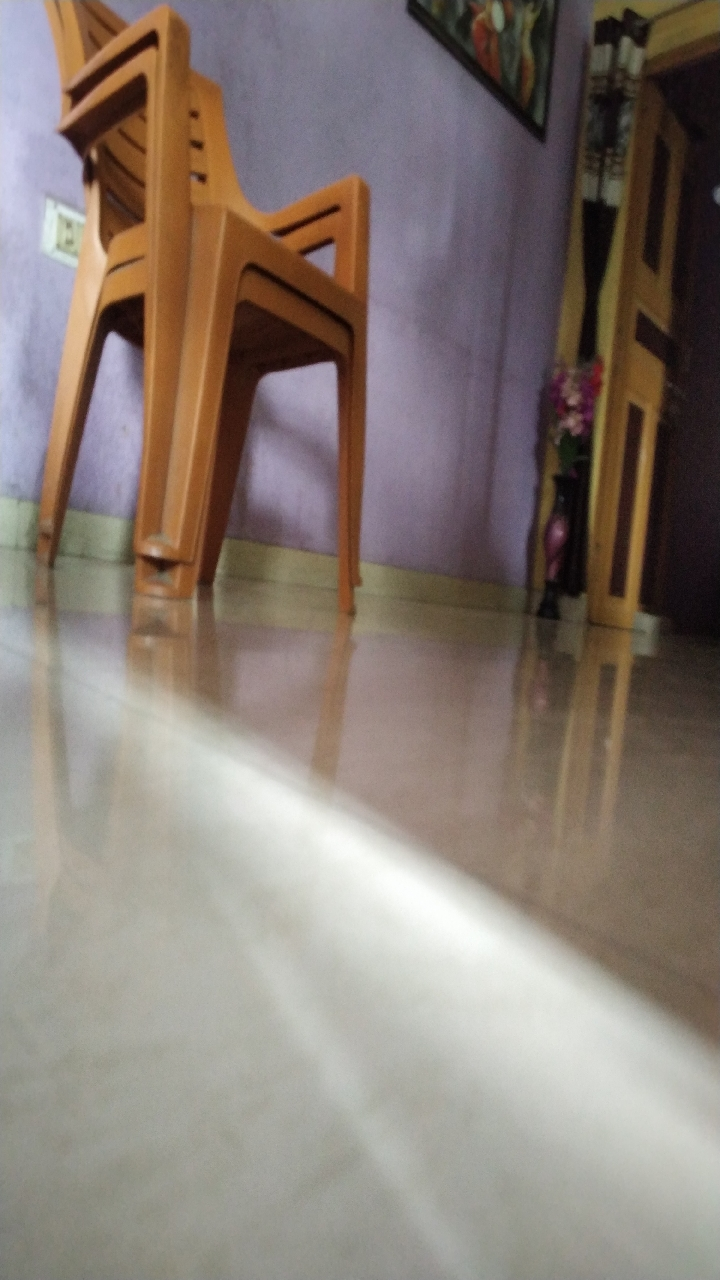Doors: (575, 152, 674, 648)
Furnitures: (36, 219, 390, 629)
